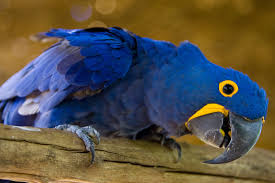guacamaya: (1, 24, 273, 168)
